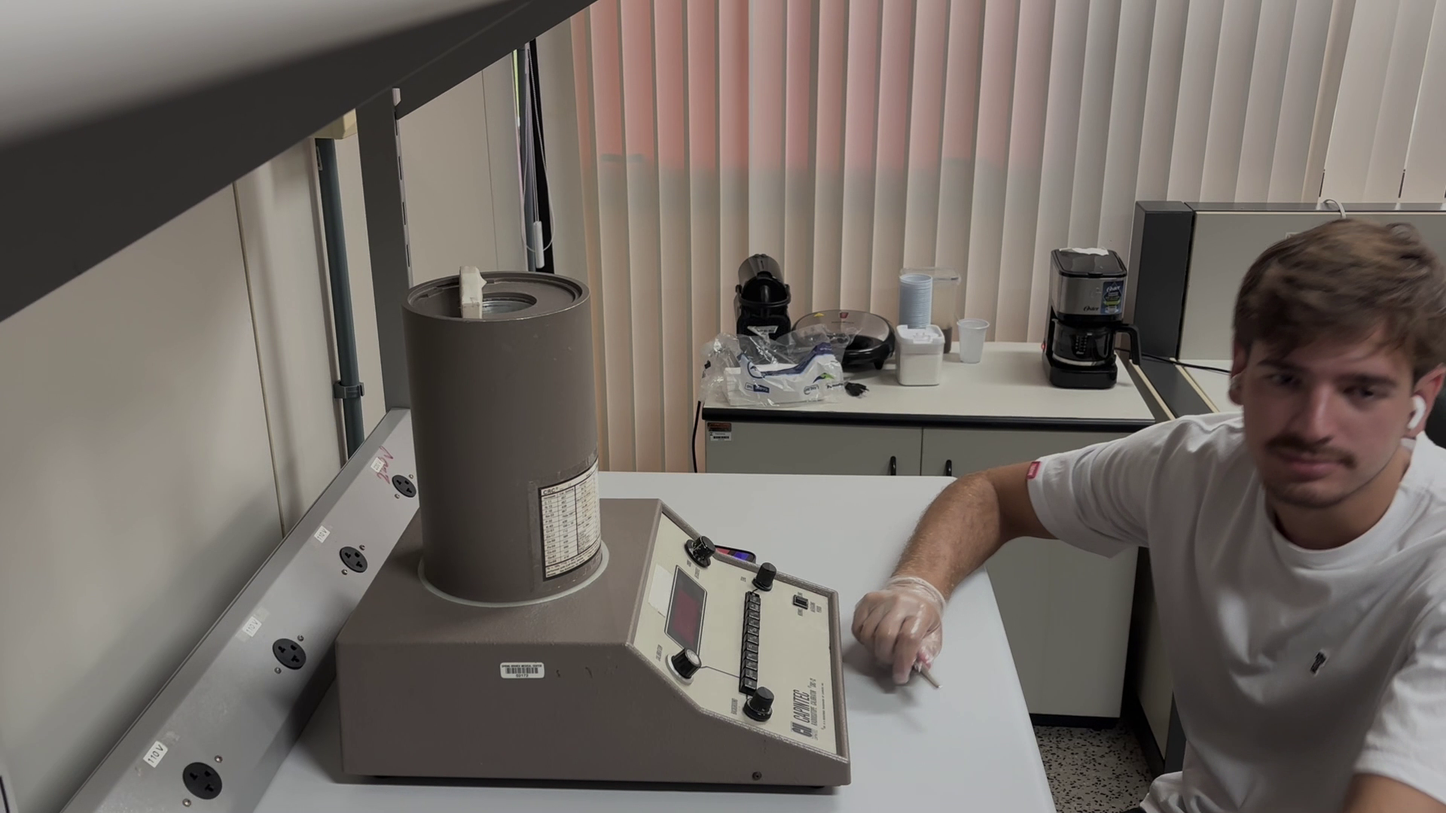Ativimetro: (398, 267, 609, 606)
Com_Luva: (845, 574, 948, 699)
